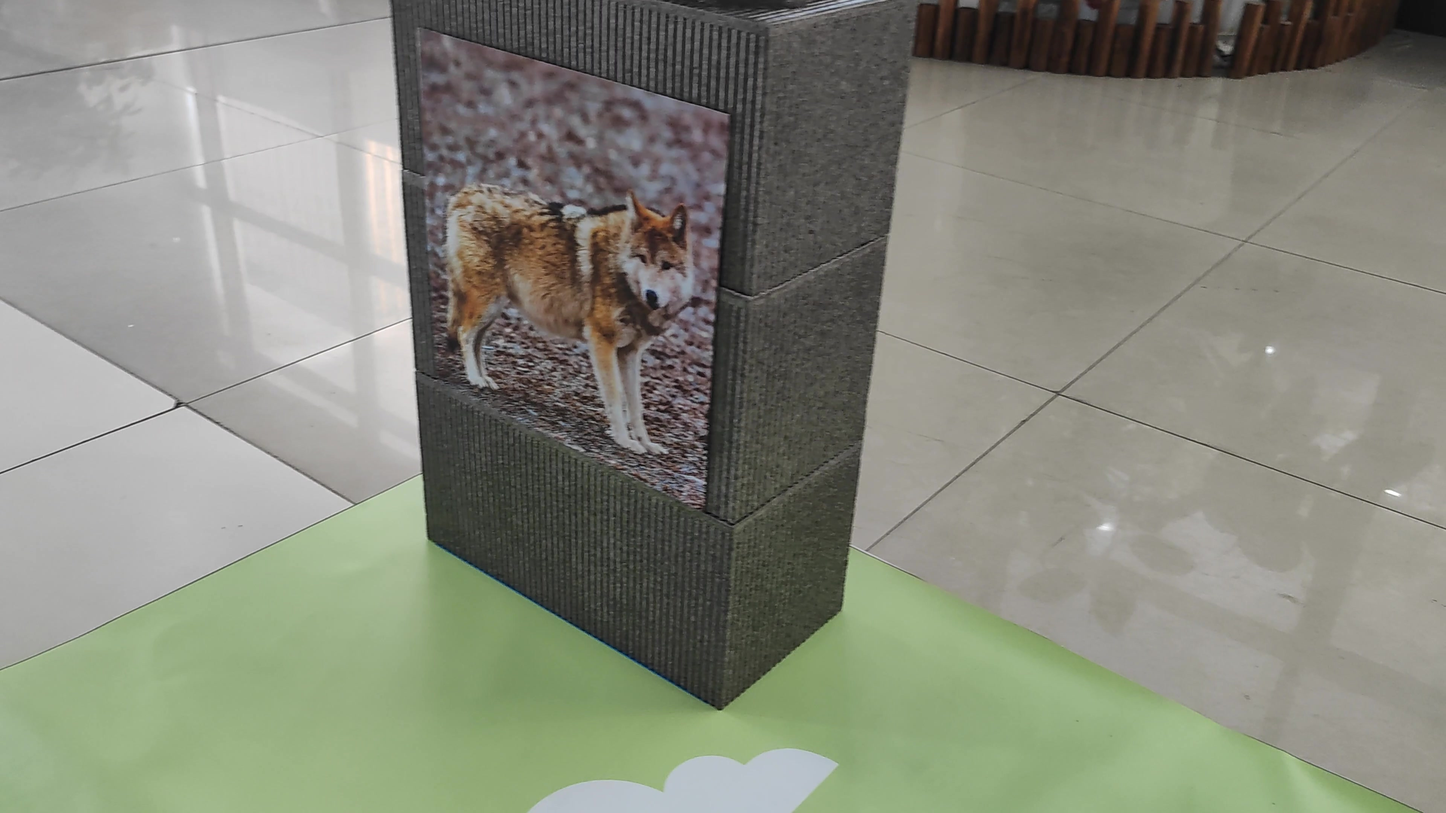wolf: (417, 150, 727, 470)
